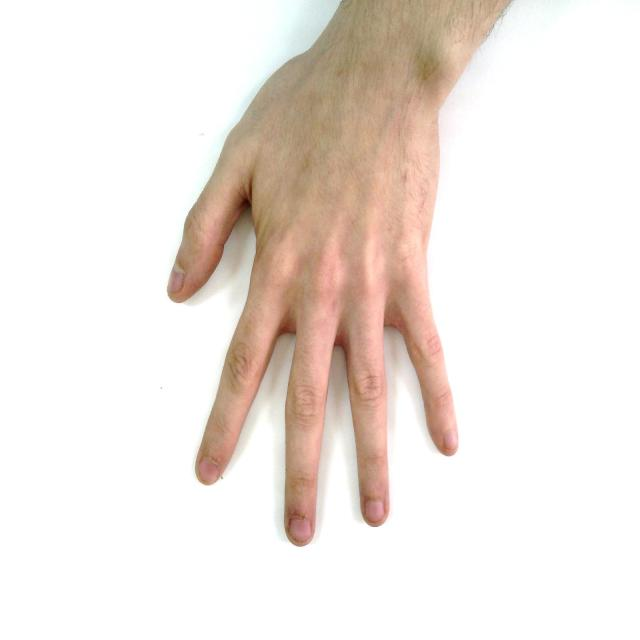Nail: (287, 517, 313, 546), (196, 456, 220, 485), (167, 262, 185, 292), (365, 502, 386, 526), (444, 431, 459, 451)
